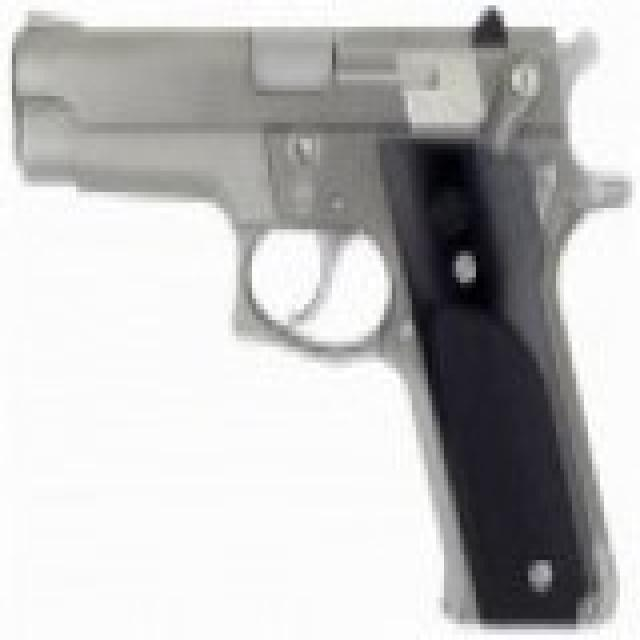pistol: (16, 5, 628, 624)
